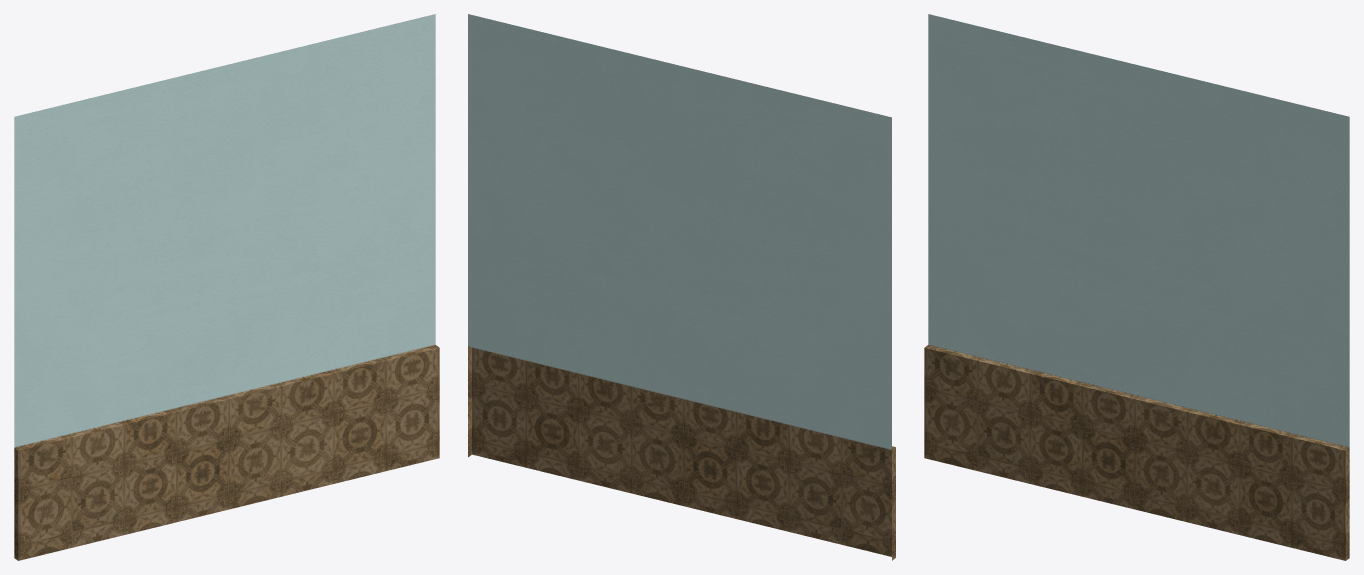
The model's file is Building B Wall B.fbx.
3 renders of one model, left to right at view 1: azimuth 30°, elevation 25°; view 2: azimuth 150°, elevation 25°; view 3: azimuth 330°, elevation 25°, orthographic.
Parts seen in each view (by area): view 1: Building B Wall B (2, Baked); view 2: Building B Wall B (2, Baked); view 3: Building B Wall B (2, Baked).
Boxes of the visible parts, x1=… form: Building B Wall B (2, Baked): x1=14, y1=14, x2=439, y2=560; Building B Wall B (2, Baked): x1=468, y1=14, x2=895, y2=560; Building B Wall B (2, Baked): x1=924, y1=14, x2=1349, y2=560.
Size of the model in its own units: 300 by 300 by 5.
